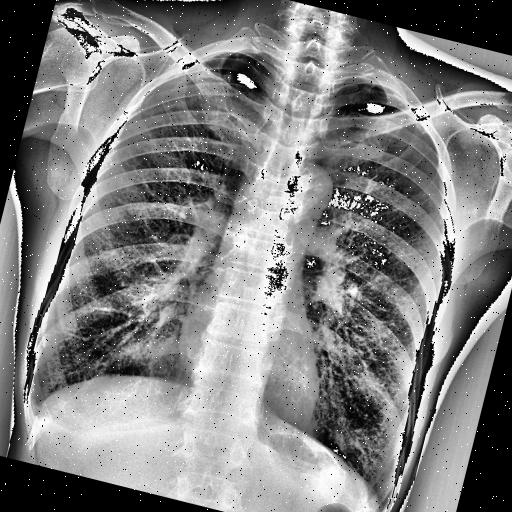10- Pleural effusion: (18, 386, 50, 422), (16, 388, 48, 418), (24, 390, 53, 422), (372, 493, 391, 512)
11- Pleural thickening: (187, 40, 242, 77), (18, 386, 50, 422), (16, 388, 48, 418), (24, 390, 53, 422), (372, 493, 391, 512)
5- ILD: (308, 225, 452, 493), (36, 146, 174, 396), (300, 288, 432, 479), (56, 203, 192, 383)
9- Other lesion: (300, 288, 432, 479), (56, 203, 192, 383)
